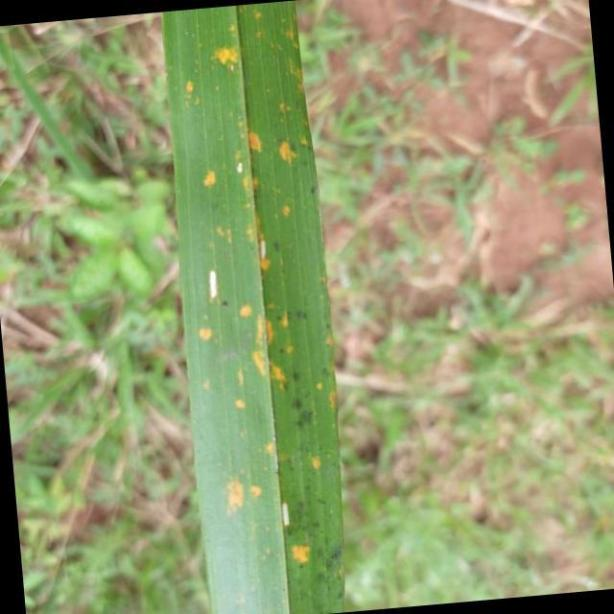Kalium: (161, 1, 343, 614)
